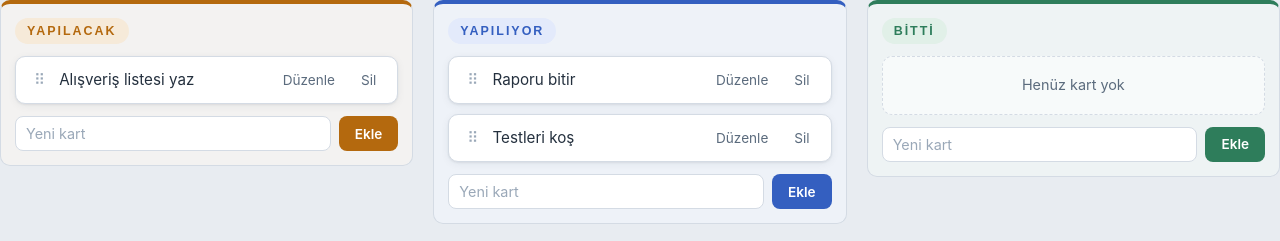
Scenario: düzenle butonuna basınca kartın başlığı düzenleme alanında açılır
The width and height of the screenshot is (1280, 241).
Click the button "Düzenle" next to "Alışveriş listesi yaz" at (309, 80), box [274,67,344,93]
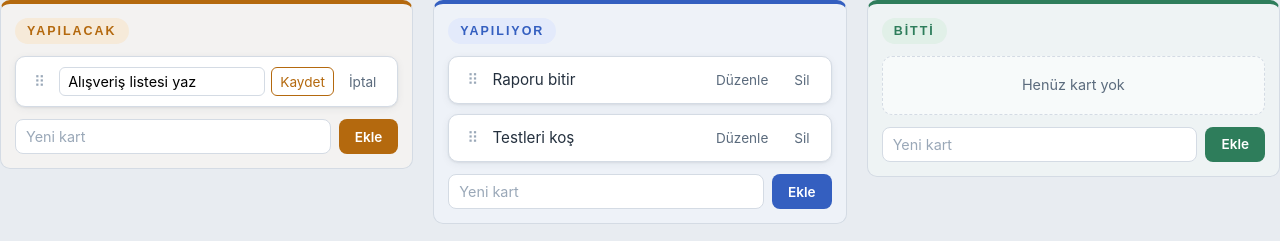
expect the field named "Kart başlığını düzenle" holds "Alışveriş listesi yaz": met, box [59,67,265,96]
